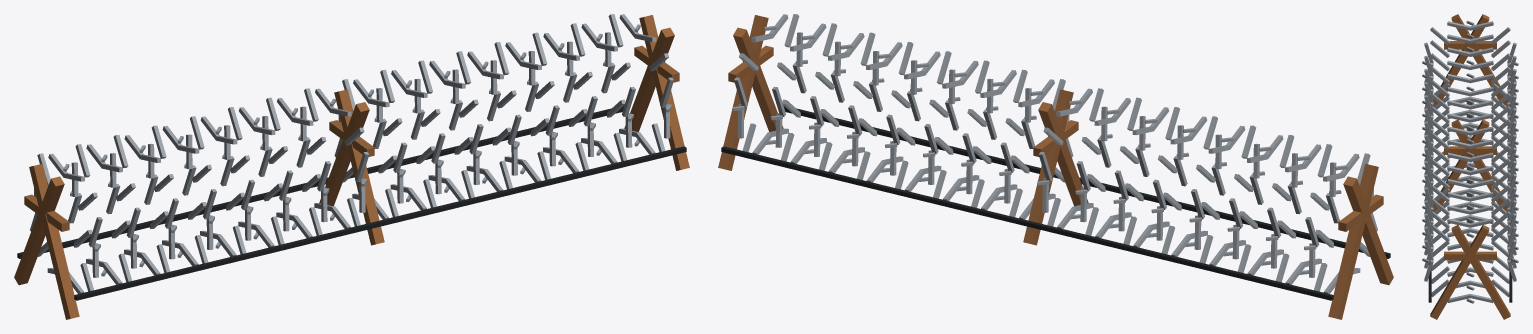
The model's file is concertina.fbx.
3 renders of one model, left to right at view 1: azimuth 30°, elevation 25°; view 2: azimuth 150°, elevation 25°; view 3: azimuth 270°, elevation 25°, orthographic. The views are drawn at different scales.
Parts seen in each view (by area): view 1: concertina; view 2: concertina; view 3: concertina.
Boxes of the visible parts, box(x1,y1,x2,y2) form: concertina: box(14, 14, 689, 319); concertina: box(718, 14, 1393, 319); concertina: box(1422, 14, 1518, 319).
Size of the model in its own units: 4.77 by 0.9675 by 0.9107.
